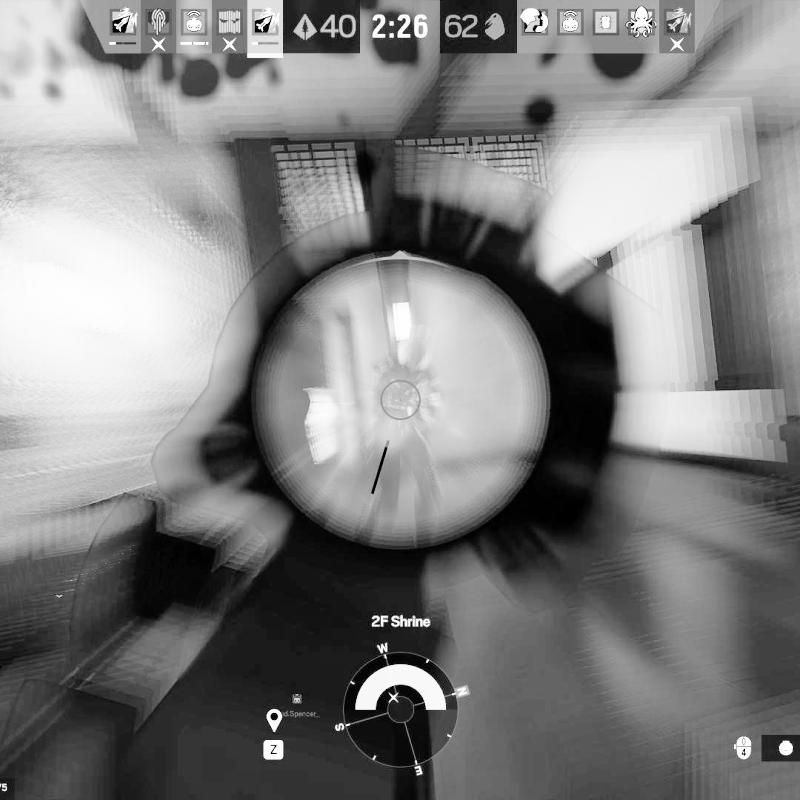Character: (369, 332, 442, 540)
Head: (394, 336, 424, 370)
